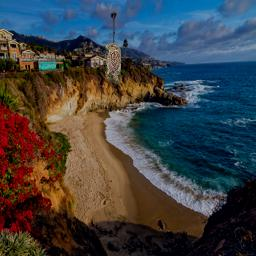Sparrow: (105, 43, 121, 83)
